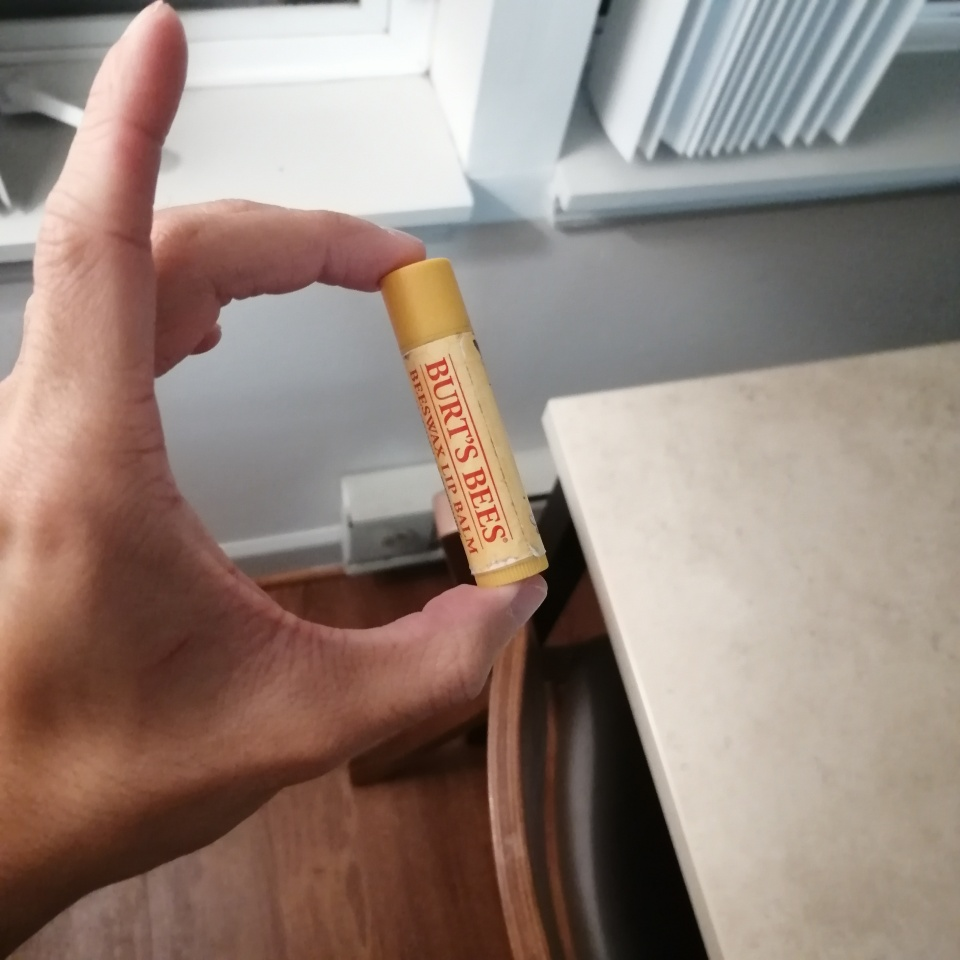chapstick: (380, 257, 550, 588)
